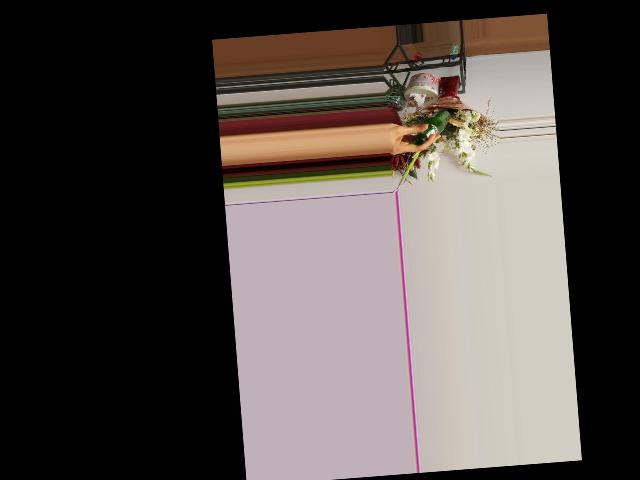beer: (410, 109, 452, 145)
